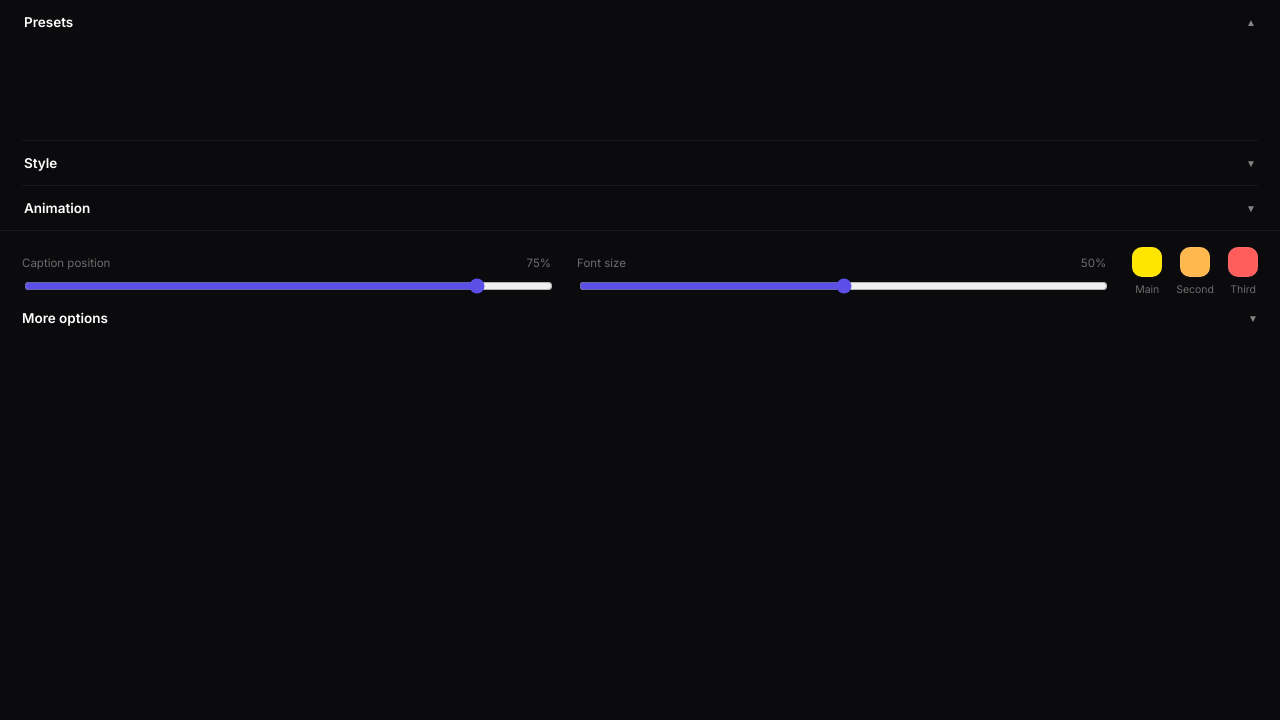
StylePanel reveal mode › offers word-by-word and one-word, and no whole-phrase choice
Click the text "Animation": click(57, 208) [24,200,90,216]
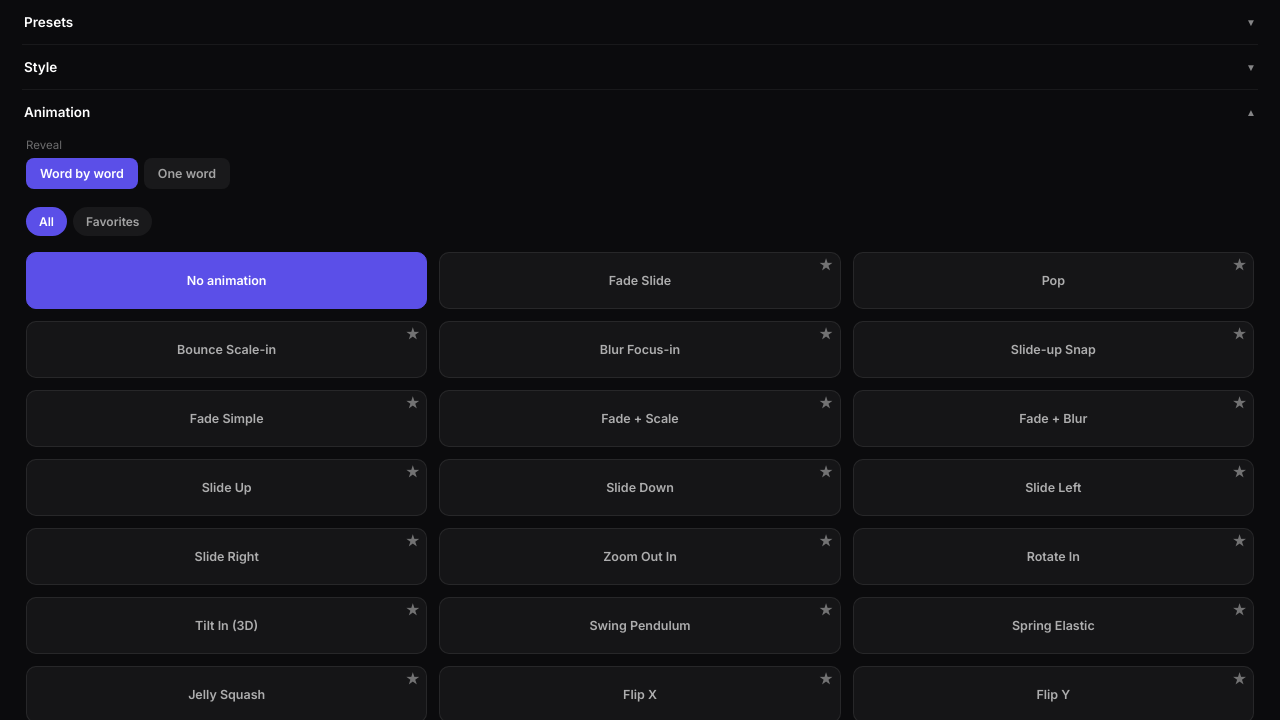
Check: the button "Word by word" is shown, box [26,158,138,189]
Check: the button "One word" is shown, box [144,158,230,189]
